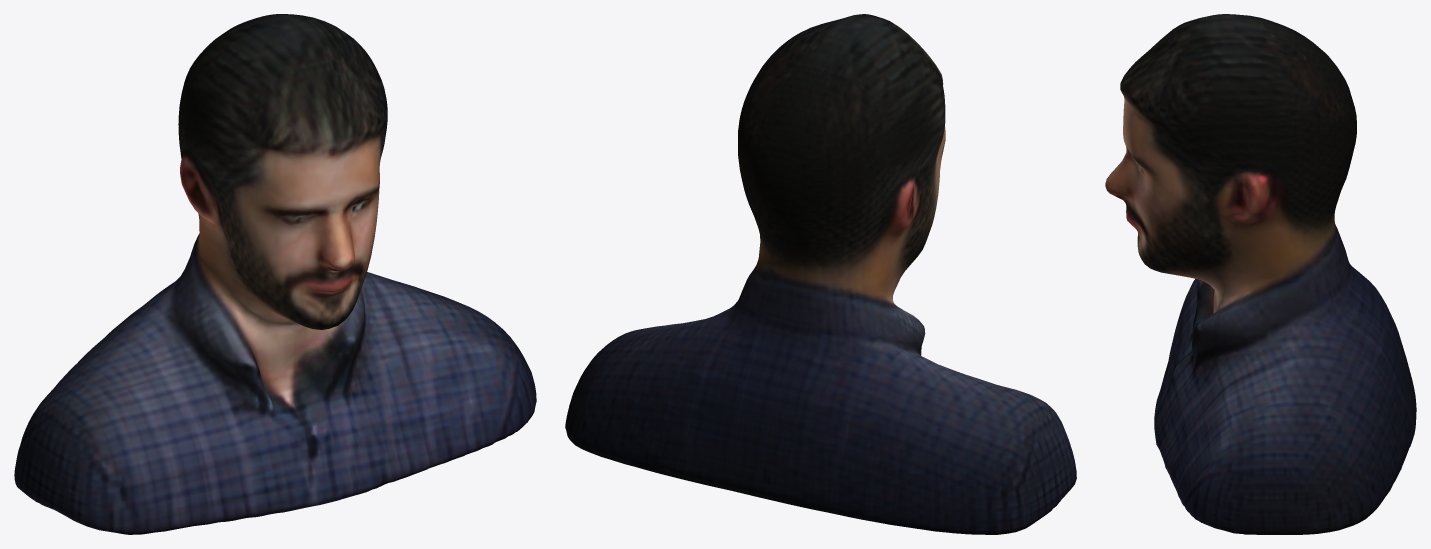
File: gastal.obj
3 renders of one model, left to right at view 1: azimuth 30°, elevation 25°; view 2: azimuth 150°, elevation 25°; view 3: azimuth 270°, elevation 25°, orthographic. The views are drawn at different scales.
Visible parts, largest first — view 1: mesh.obj; view 2: mesh.obj; view 3: mesh.obj.
Boxes of the visible parts, x1,y1,x2,y2 form: mesh.obj: (14,14,536,534); mesh.obj: (565,14,1076,534); mesh.obj: (1105,14,1416,534).
Bounding box in the file's own units: 0.8812 × 0.7789 × 0.5307.
1 material, 1 textured.
